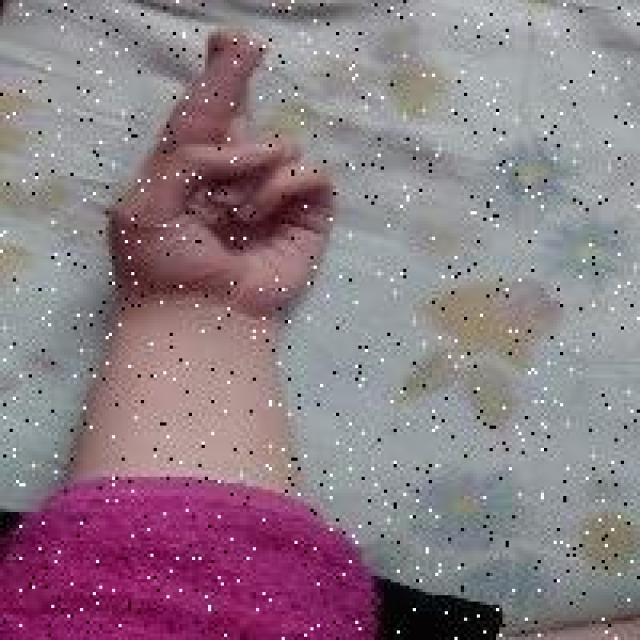R: (104, 19, 341, 320)
